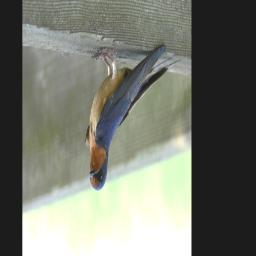Swallow: (84, 40, 182, 194)
